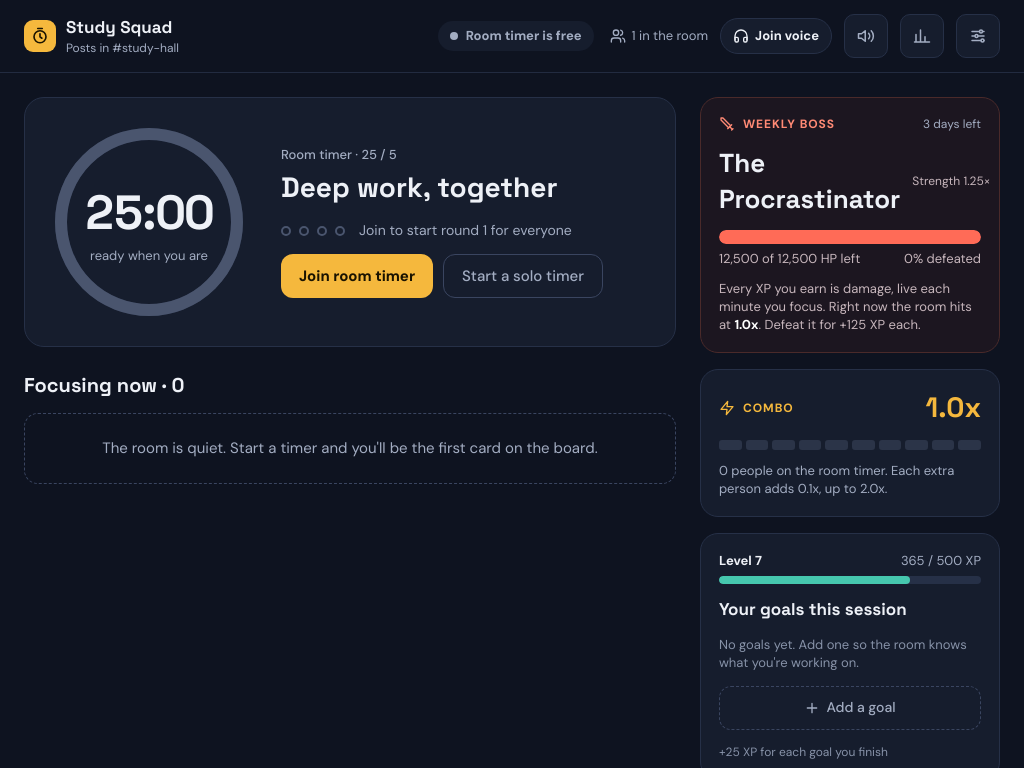
Study Squad app › shows only 'Focusing' to the room when goals are private
This screenshot has width=1024, height=768.
Check: the text "25:00" is shown, box x1=85 y1=179 x2=213 y2=246
Click the button "Join room timer" at (357, 276), box x1=281 y1=254 x2=433 y2=298
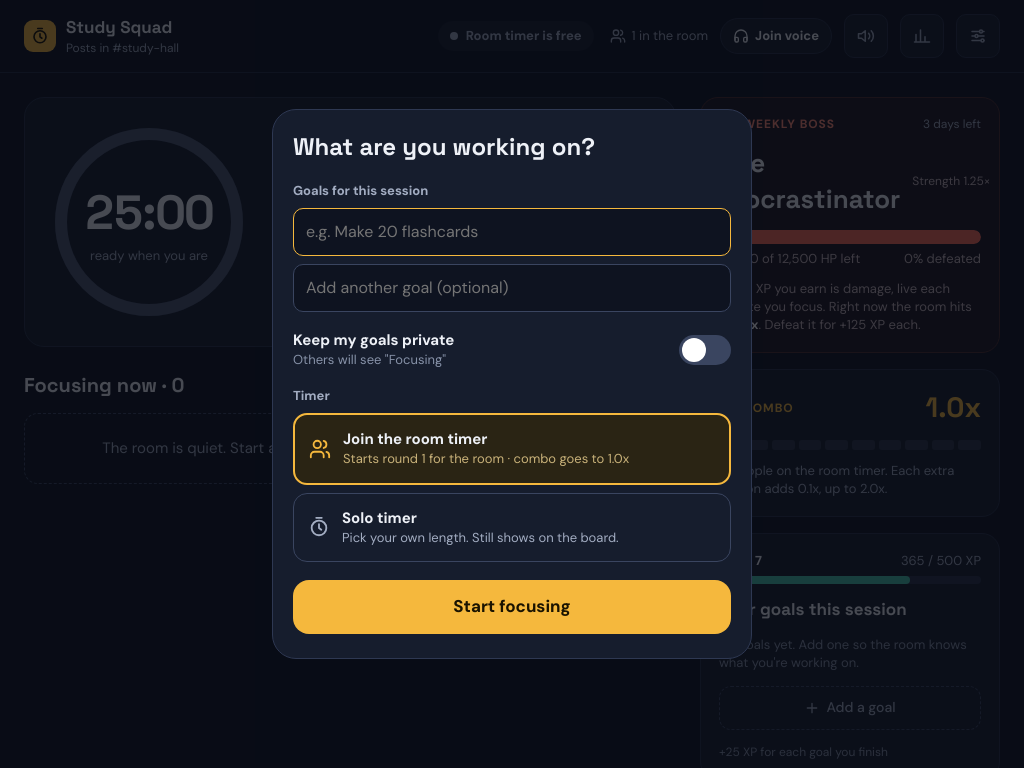
Type "Secret thesis plan" into the field labelled "Goals for this session" at (512, 232), box x1=293 y1=208 x2=731 y2=256
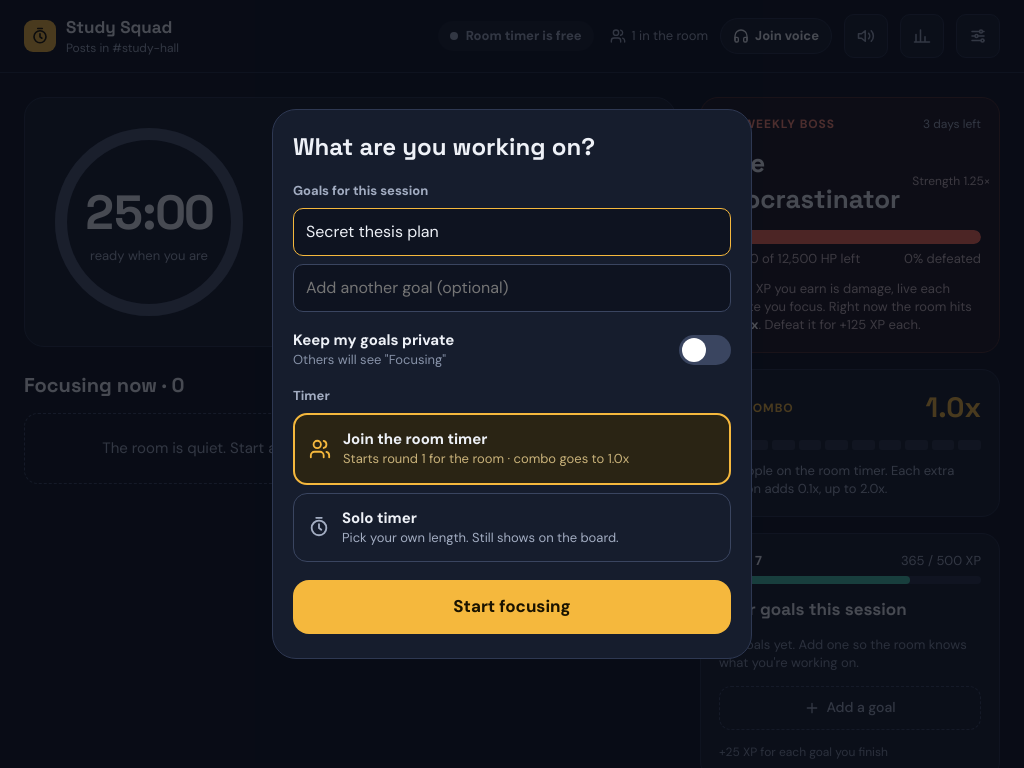
Click the switch named "Keep my goals private" at (705, 350), box x1=679 y1=335 x2=731 y2=365
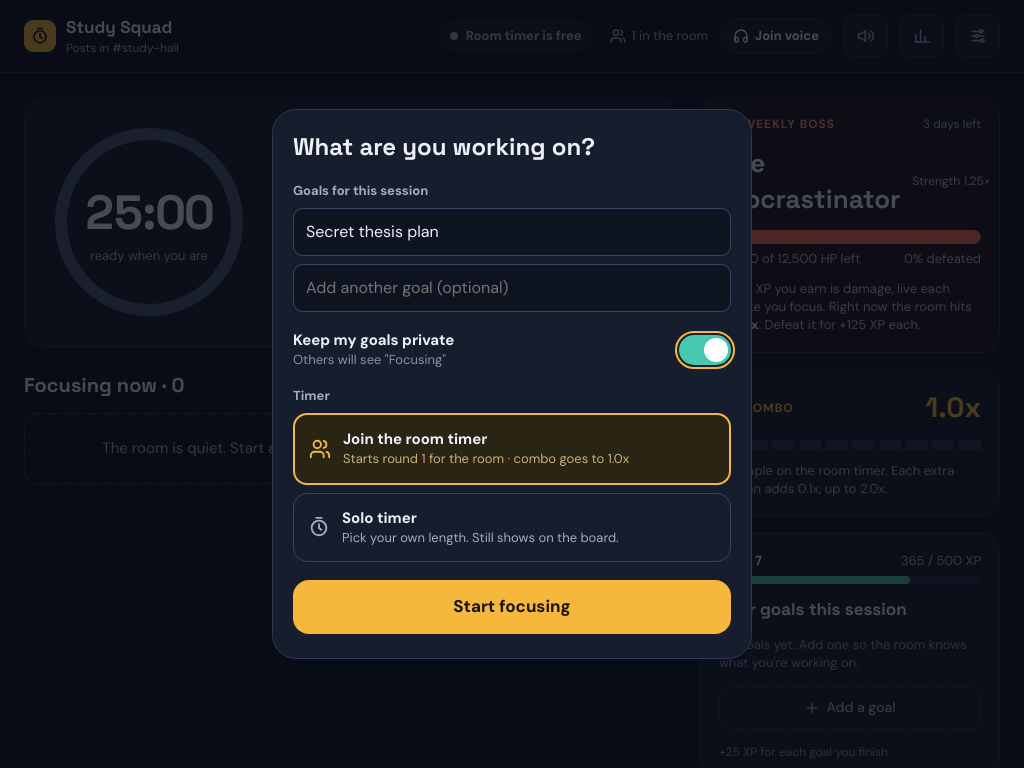
Click the button "Start focusing" at (512, 607), box x1=293 y1=580 x2=731 y2=634
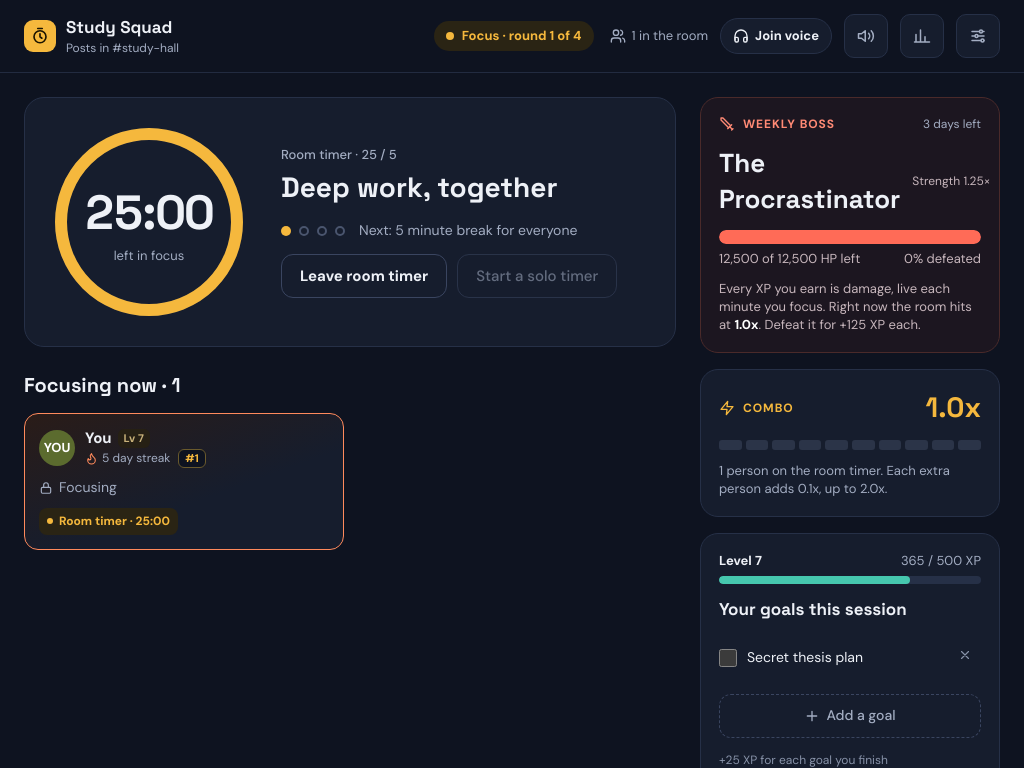
Check: the list item with aria-label "You, Room timer" does not show "Secret thesis plan", box x1=24 y1=413 x2=344 y2=550
Check: the list item with aria-label "You, Room timer" shows "Focusing", box x1=59 y1=478 x2=117 y2=496
Check: the text "Secret thesis plan" is shown, box x1=747 y1=648 x2=863 y2=668
